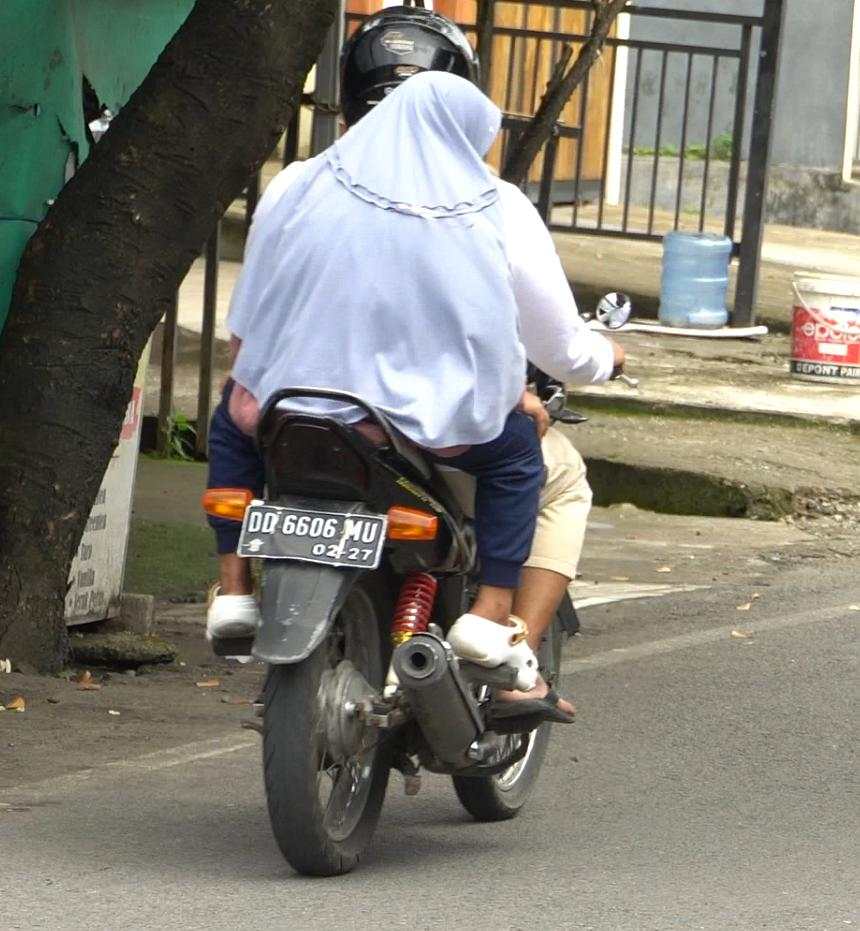number-plate: (237, 501, 392, 575)
